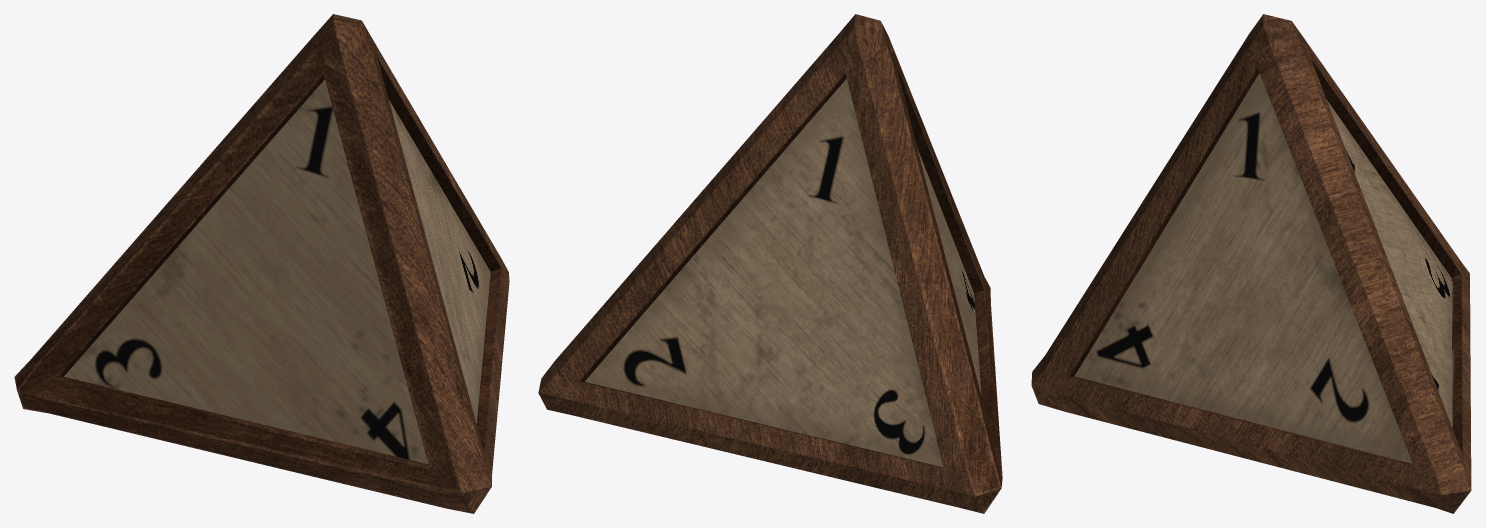
3 renders of one model, left to right at view 1: azimuth 30°, elevation 25°; view 2: azimuth 150°, elevation 25°; view 3: azimuth 270°, elevation 25°, orthographic. The views are drawn at different scales.
Parts seen in each view (by area): view 1: polySurface5_d4_0; view 2: polySurface5_d4_0; view 3: polySurface5_d4_0.
Part boxes in pixels (x1,y1,x2,y2): polySurface5_d4_0: (14,14,509,513); polySurface5_d4_0: (538,14,1002,513); polySurface5_d4_0: (1031,14,1471,513).
Size of the model in its own units: 0.0306 by 0.0242 by 0.0251.
1 material, 1 textured.
